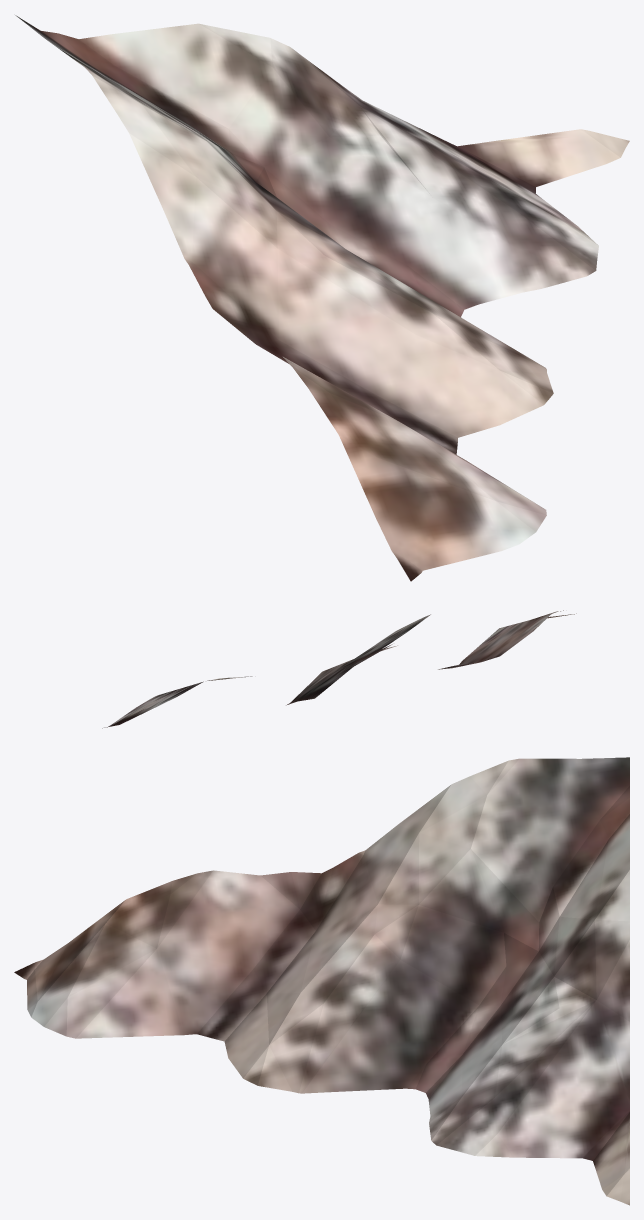
3 renders of one model, top to bottom at view 1: azimuth 30°, elevation 25°; view 2: azimuth 150°, elevation 25°; view 3: azimuth 270°, elevation 25°, orthographic. The views are drawn at different scales.
Bounding box in the file's own units: 0.4811 × 0.2067 × 0.5369.
Materials: 1 (1 with a texture image).
